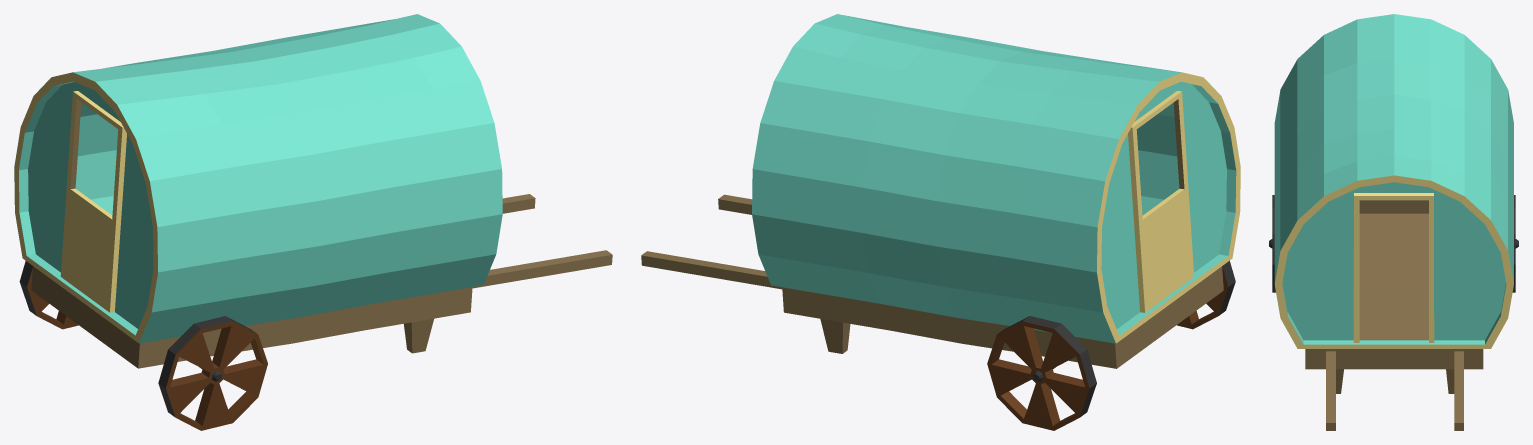
File: Caravan01.fbx
The picture shows the model from 3 angles, left to right: view 1: azimuth 30°, elevation 25°; view 2: azimuth 150°, elevation 25°; view 3: azimuth 270°, elevation 25°; orthographic projection. The views are drawn at different scales.
Parts seen in each view (by area): view 1: Caravan01; view 2: Caravan01; view 3: Caravan01.
Part boxes in pixels (<box>): Caravan01: <box>14,14,612,430</box>; Caravan01: <box>641,14,1240,430</box>; Caravan01: <box>1269,14,1518,430</box>.
Bounding box in the file's own units: 643 × 392 × 341.
